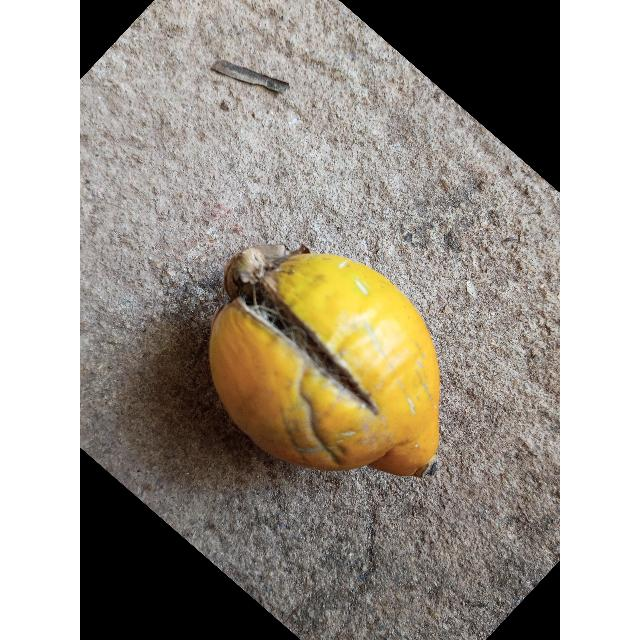damaged: (209, 245, 439, 477)
